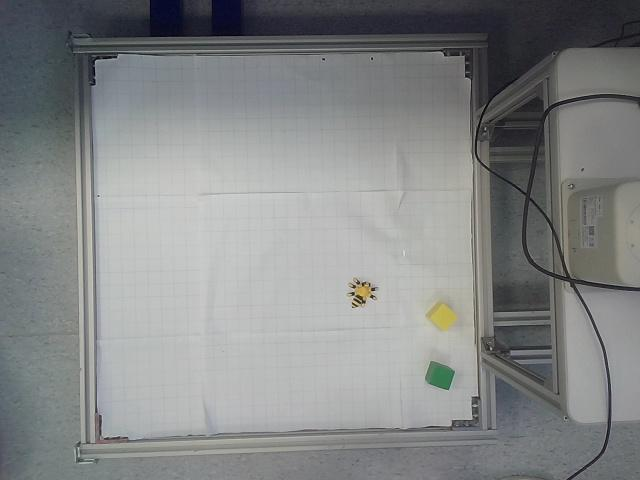frelon: (347, 278, 379, 308)
